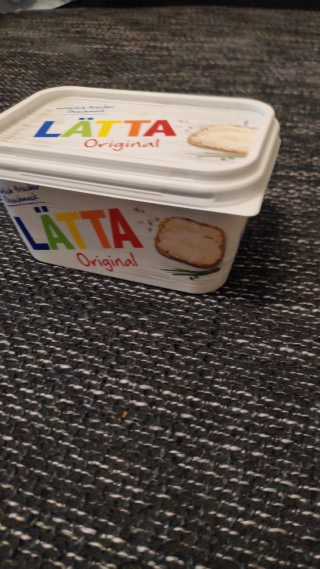laetta: (1, 84, 282, 295)
